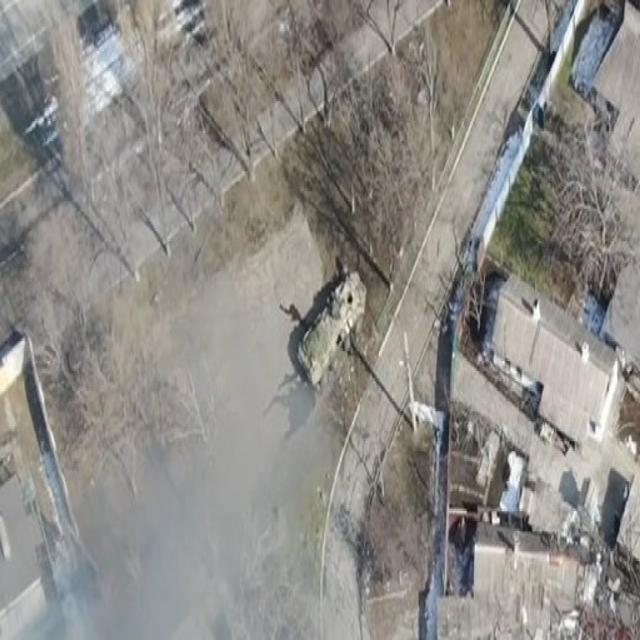APC-IFV: (290, 264, 370, 384)
